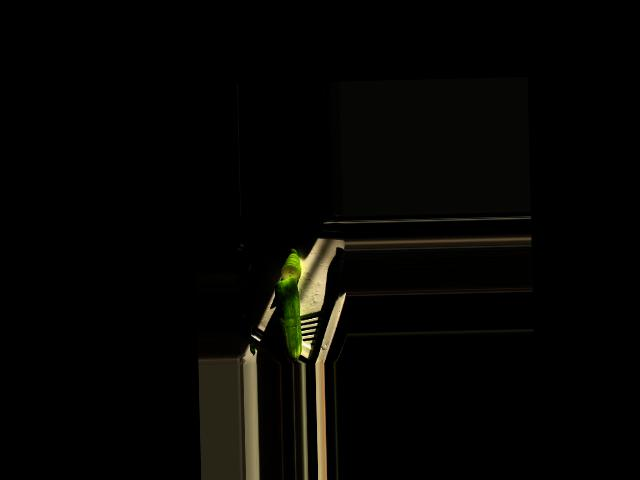cucumber: (275, 276, 302, 361)
